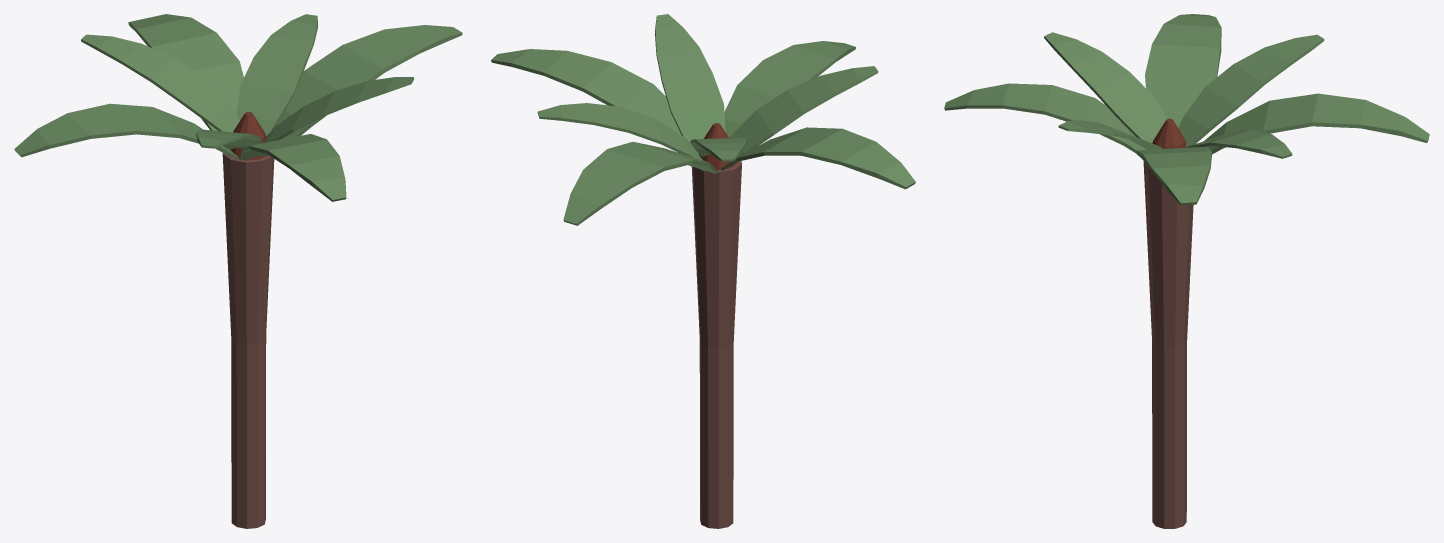
The model's file is Arvore.fbx.
3 renders of one model, left to right at view 1: azimuth 30°, elevation 25°; view 2: azimuth 150°, elevation 25°; view 3: azimuth 270°, elevation 25°, orthographic. The views are drawn at different scales.
Parts seen in each view (by area): view 1: Tronco, Planta.002, Planta.005, Planta.003, Planta.007, Planta, Planta.001, Planta.006, Planta.004, Toquinho; view 2: Tronco, Planta.002, Planta.006, Planta, Planta.003, Planta.001, Planta.004, Planta.005, Planta.007, Toquinho; view 3: Tronco, Planta.003, Planta, Planta.007, Planta.004, Planta.001, Planta.002, Planta.005, Planta.006, Toquinho.
Part boxes in pixels (<box>): Tronco: <box>222,153,274,528</box>; Planta.002: <box>276,25,462,139</box>; Planta.005: <box>236,14,317,135</box>; Planta.003: <box>14,103,239,160</box>; Planta.007: <box>81,34,239,132</box>; Planta: <box>128,14,243,130</box>; Planta.001: <box>240,134,346,201</box>; Planta.006: <box>264,77,413,142</box>; Planta.004: <box>196,129,261,149</box>; Toquinho: <box>230,112,267,160</box>; Tronco: <box>691,161,741,528</box>; Planta.002: <box>491,49,681,134</box>; Planta.006: <box>655,14,725,142</box>; Planta: <box>563,141,717,225</box>; Planta.003: <box>721,127,915,189</box>; Planta.001: <box>724,41,855,137</box>; Planta.004: <box>729,66,878,162</box>; Planta.005: <box>537,103,702,160</box>; Planta.007: <box>690,138,747,161</box>; Toquinho: <box>699,123,737,170</box>; Tronco: <box>1143,161,1193,528</box>; Planta.003: <box>1145,14,1221,127</box>; Planta: <box>1204,93,1429,154</box>; Planta.007: <box>1178,34,1324,147</box>; Planta.004: <box>1044,32,1166,142</box>; Planta.001: <box>944,83,1146,153</box>; Planta.002: <box>1136,146,1211,205</box>; Planta.005: <box>1186,129,1292,158</box>; Planta.006: <box>1058,120,1163,149</box>; Toquinho: <box>1152,118,1186,148</box>.
Size of the model in its own units: 550 by 548 by 539.
